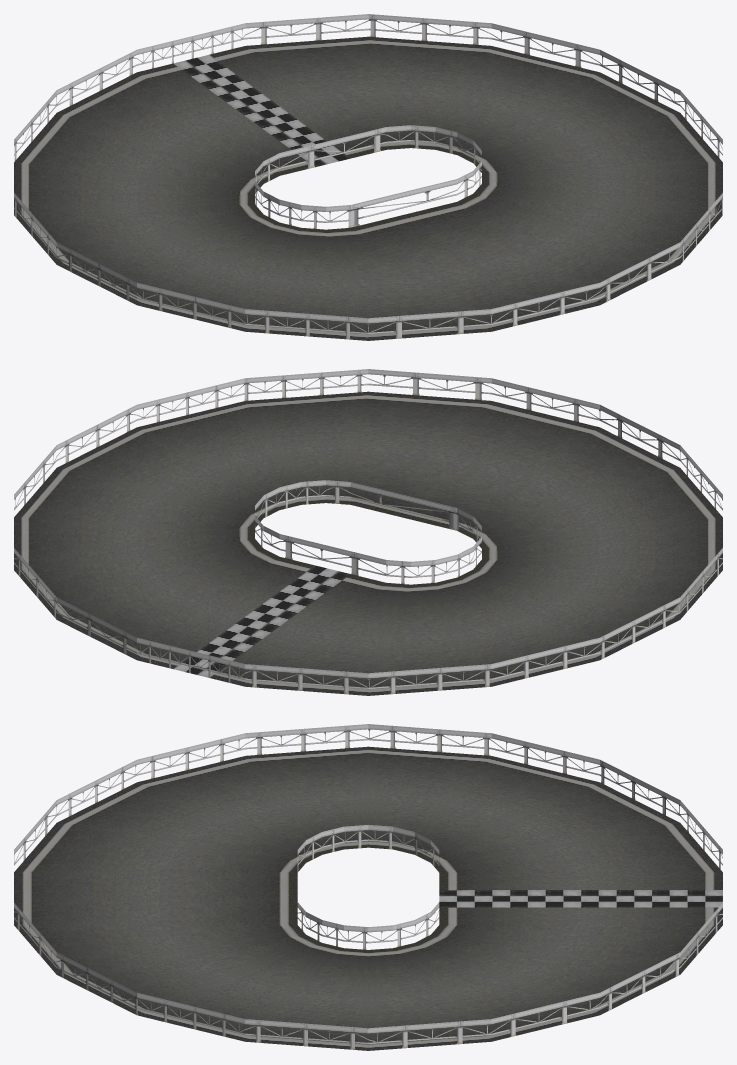
Rendered from basic.obj.
3 renders of one model, top to bottom at view 1: azimuth 30°, elevation 25°; view 2: azimuth 150°, elevation 25°; view 3: azimuth 270°, elevation 25°, orthographic.
Visible parts, largest first — view 1: polygon0; view 2: polygon0; view 3: polygon0.
Boxes of the visible parts, bbox=[...] form: polygon0: bbox=[14, 14, 722, 340]; polygon0: bbox=[14, 369, 722, 695]; polygon0: bbox=[14, 724, 722, 1050].
Bounding box in the file's own units: 12.66 × 0.4439 × 12.47.
Materials: 3 (3 with a texture image).
